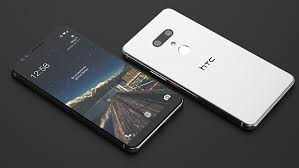htc: (115, 6, 299, 129)
